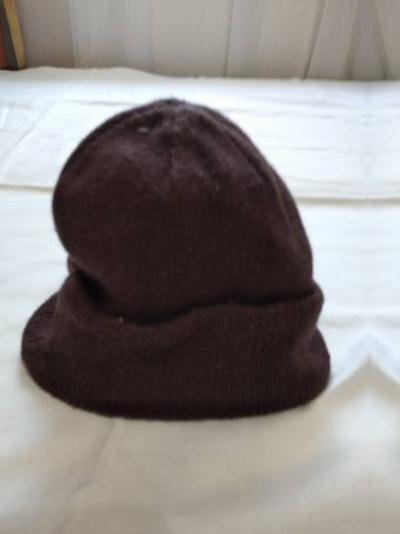Hat: (19, 101, 338, 433), (400, 99, 400, 431)
